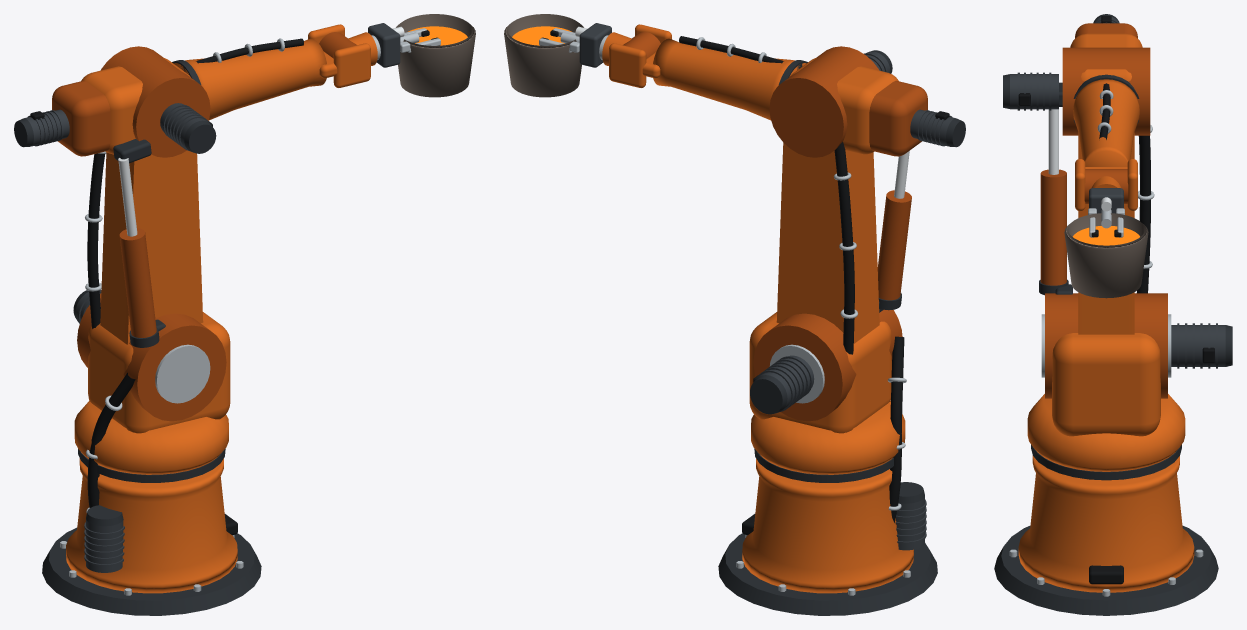
The model's file is robot-6ejes.glb.
3 views of the same model, side by side, from view 1: azimuth 30°, elevation 25°; view 2: azimuth 150°, elevation 25°; view 3: azimuth 270°, elevation 25° (orthographic). The views are drawn at different scales.
Parts seen in each view (by area): view 1: Base, J1, J2, J3, J4, Cuchara, Pinza, J5, MetalCuchara; view 2: Base, J1, J2, J3, J4, Cuchara, Pinza, J5, MetalCuchara; view 3: Base, J1, J2, J3, J4, Cuchara, Pinza, J5, MetalCuchara.
Boxes of the visible parts, <box> form: Base: <box>42,448,261,615</box>; J1: <box>73,290,230,512</box>; J2: <box>85,139,203,347</box>; J3: <box>14,46,216,157</box>; J4: <box>172,24,370,120</box>; Cuchara: <box>396,14,475,97</box>; Pinza: <box>368,23,440,67</box>; J5: <box>319,32,377,65</box>; MetalCuchara: <box>408,26,467,45</box>; Base: <box>718,448,937,615</box>; J1: <box>749,309,906,522</box>; J2: <box>776,142,911,354</box>; J3: <box>769,46,965,157</box>; J4: <box>609,24,807,120</box>; Cuchara: <box>504,14,583,97</box>; Pinza: <box>539,23,611,67</box>; J5: <box>602,32,660,65</box>; MetalCuchara: <box>512,26,571,45</box>; Base: <box>994,444,1218,615</box>; J1: <box>1027,293,1232,471</box>; J2: <box>1039,82,1154,334</box>; J3: <box>1003,14,1150,135</box>; J4: <box>1073,74,1139,211</box>; Cuchara: <box>1064,209,1148,298</box>; Pinza: <box>1088,188,1124,237</box>; J5: <box>1084,169,1128,203</box>; MetalCuchara: <box>1073,226,1139,245</box>.
Size of the model in its own units: 3.02 by 3.25 by 1.36.
